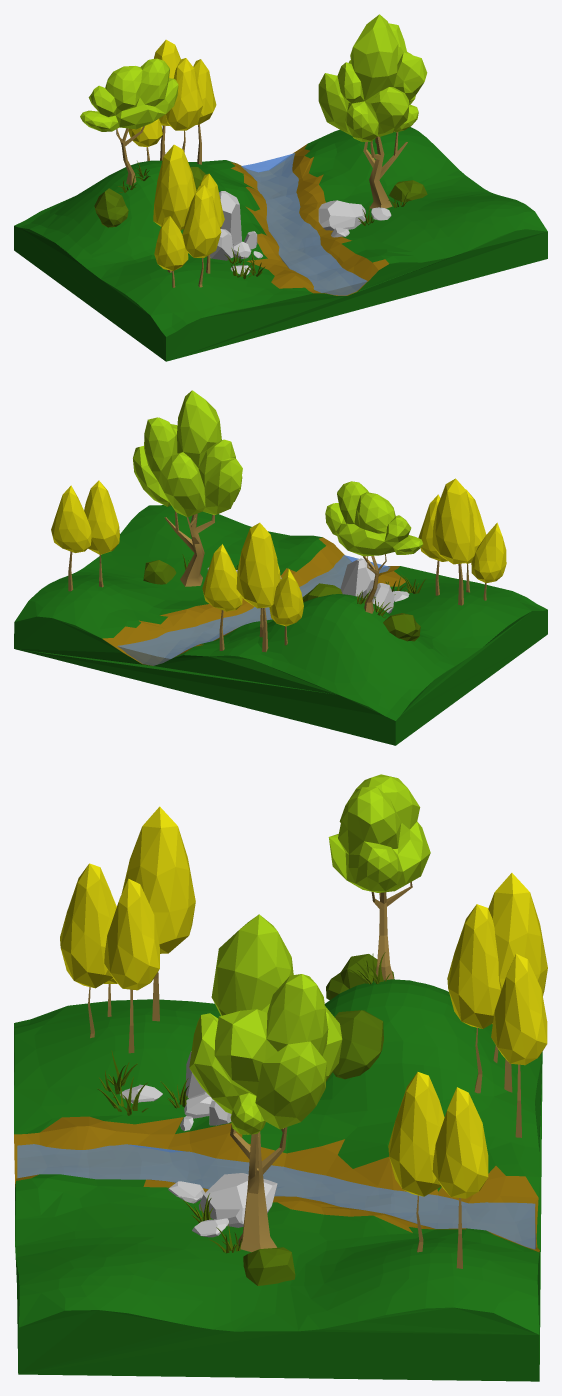
The picture shows the model from 3 angles, top to bottom: view 1: azimuth 30°, elevation 25°; view 2: azimuth 150°, elevation 25°; view 3: azimuth 270°, elevation 25°; orthographic projection. The views are drawn at different scales.
Visible parts, largest first — view 1: Cube, Icosphere.007, River, Icosphere.004, Icosphere.008, Icosphere.003, Icosphere.014, Icosphere.006, Cylinder, LowPolyRock, Icosphere, Icosphere.013 (+7 smaller); view 2: Cube, Icosphere.007, Icosphere.004, River, Icosphere.008, Icosphere.011, Icosphere.009, Icosphere.010, Icosphere.013, Icosphere.006, Icosphere.012, Cylinder (+7 smaller); view 3: Cube, Icosphere.007, River, Icosphere.004, Icosphere.008, Icosphere.014, Icosphere.010, Icosphere.003, Icosphere.013, Icosphere.009, Icosphere.005, Icosphere.011 (+7 smaller).
Part boxes in pixels (left/top/right/bottom): Cube: left=14, top=127, right=547, bottom=361; Icosphere.007: left=318, top=14, right=427, bottom=141; River: left=241, top=153, right=367, bottom=295; Icosphere.004: left=80, top=58, right=178, bottom=131; Icosphere.008: left=153, top=144, right=196, bottom=230; Icosphere.003: left=182, top=185, right=221, bottom=257; Icosphere.014: left=165, top=58, right=202, bottom=130; Icosphere.006: left=154, top=216, right=188, bottom=270; Cylinder: left=363, top=132, right=407, bottom=208; LowPolyRock: left=318, top=200, right=365, bottom=230; Icosphere: left=94, top=188, right=128, bottom=227; Icosphere.013: left=193, top=59, right=216, bottom=124; Cube: left=14, top=505, right=547, bottom=745; Icosphere.007: left=133, top=390, right=242, bottom=517; Icosphere.004: left=325, top=481, right=422, bottom=556; River: left=117, top=555, right=389, bottom=665; Icosphere.008: left=432, top=478, right=474, bottom=564; Icosphere.011: left=236, top=522, right=278, bottom=608; Icosphere.009: left=51, top=485, right=91, bottom=552; Icosphere.010: left=84, top=480, right=119, bottom=554; Icosphere.013: left=202, top=544, right=242, bottom=611; Icosphere.006: left=471, top=522, right=506, bottom=583; Icosphere.012: left=269, top=568, right=303, bottom=626; Cylinder: left=164, top=511, right=214, bottom=586; Cube: left=14, top=979, right=542, bottom=1381; Icosphere.007: left=189, top=914, right=342, bottom=1134; River: left=17, top=1144, right=535, bottom=1249; Icosphere.004: left=328, top=774, right=430, bottom=892; Icosphere.008: left=121, top=806, right=195, bottom=953; Icosphere.014: left=447, top=904, right=500, bottom=1028; Icosphere.010: left=388, top=1072, right=444, bottom=1196; Icosphere.003: left=60, top=863, right=115, bottom=988; Icosphere.013: left=491, top=953, right=547, bottom=1065; Icosphere.009: left=432, top=1087, right=488, bottom=1198; Icosphere.005: left=104, top=878, right=159, bottom=990; Icosphere.011: left=488, top=873, right=547, bottom=995.
Bounding box in the file's own units: 14.02 × 7.89 × 9.75.
